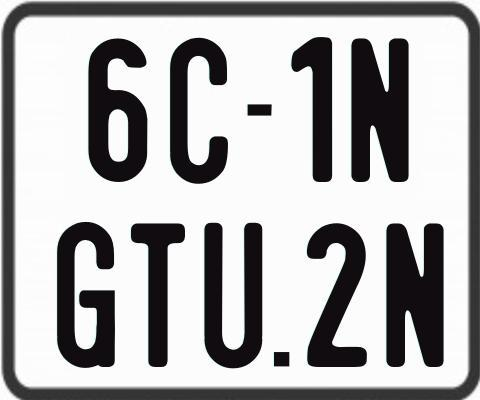1: (288, 37, 334, 182)
2: (307, 223, 367, 369)
6: (87, 39, 148, 185)
C: (169, 36, 233, 184)
G: (56, 219, 117, 371)
N: (348, 36, 407, 183), (386, 222, 444, 371)
T: (128, 221, 182, 371)
U: (202, 223, 261, 370)
